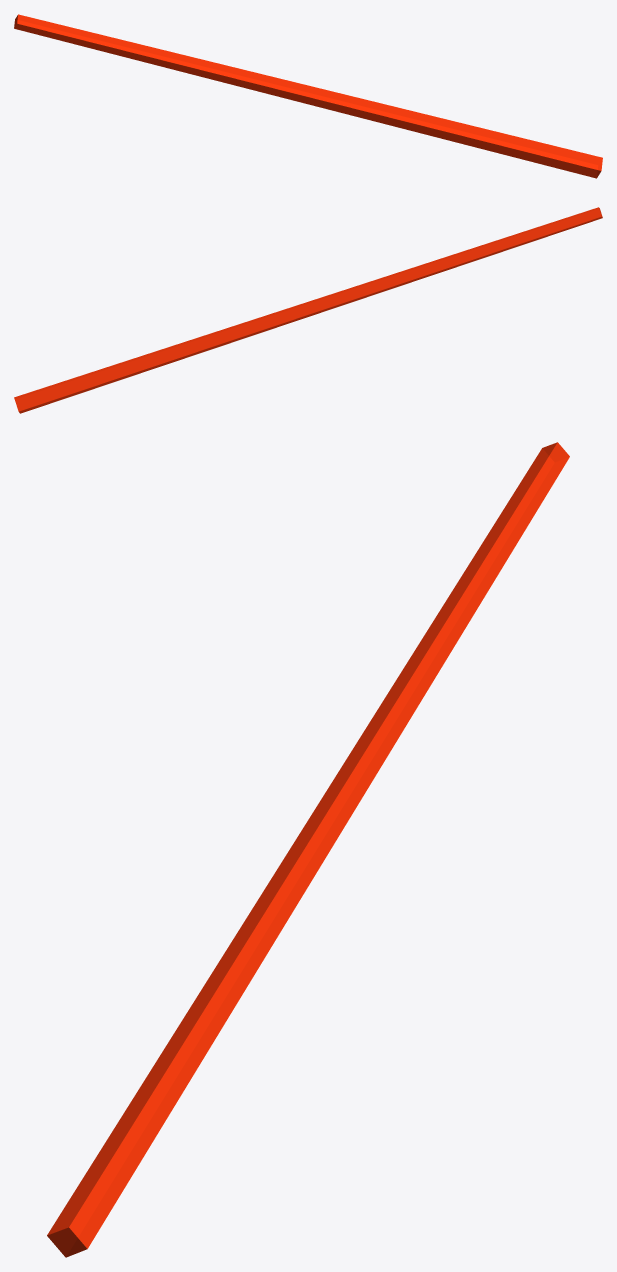
Rendered from Event_421278790_EBrechit_24.fbx.
The picture shows the model from 3 angles, top to bottom: view 1: azimuth 30°, elevation 25°; view 2: azimuth 210°, elevation 25°; view 3: azimuth 270°, elevation 25°; orthographic projection. The views are drawn at different scales.
Visible parts, largest first — view 1: Model; view 2: Model; view 3: Model.
Part boxes in pixels (bbox=[...]): Model: bbox=[14, 14, 602, 178]; Model: bbox=[14, 207, 602, 413]; Model: bbox=[47, 442, 569, 1257].
Size of the model in its own units: 2.96 by 1.12 by 1.44.
